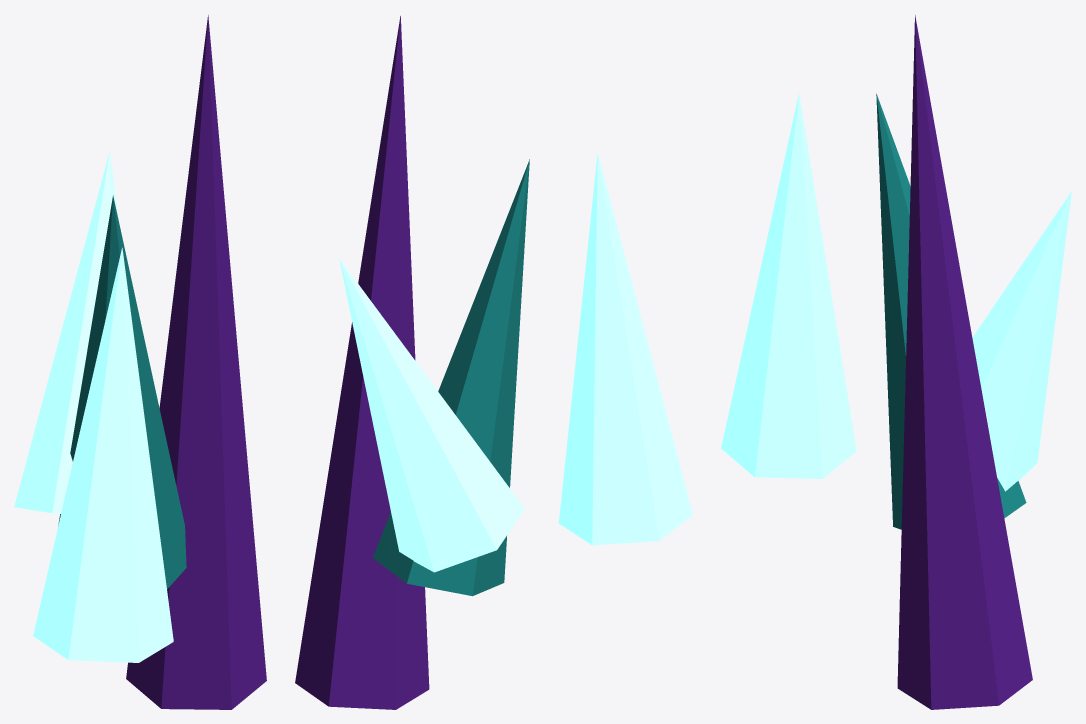
The model's file is Prop_OR_Crystal_21.glb.
The picture shows the model from 3 angles, left to right: view 1: azimuth 30°, elevation 25°; view 2: azimuth 150°, elevation 25°; view 3: azimuth 270°, elevation 25°; orthographic projection. The views are drawn at different scales.
Parts seen in each view (by area): view 1: Prop_OR_Crystal_21; view 2: Prop_OR_Crystal_21; view 3: Prop_OR_Crystal_21.
Part boxes in pixels (bbox=[...]): Prop_OR_Crystal_21: bbox=[14, 15, 266, 709]; Prop_OR_Crystal_21: bbox=[295, 16, 692, 709]; Prop_OR_Crystal_21: bbox=[721, 15, 1071, 709].
Size of the model in its own units: 0.5946 by 1.36 by 0.6463.
